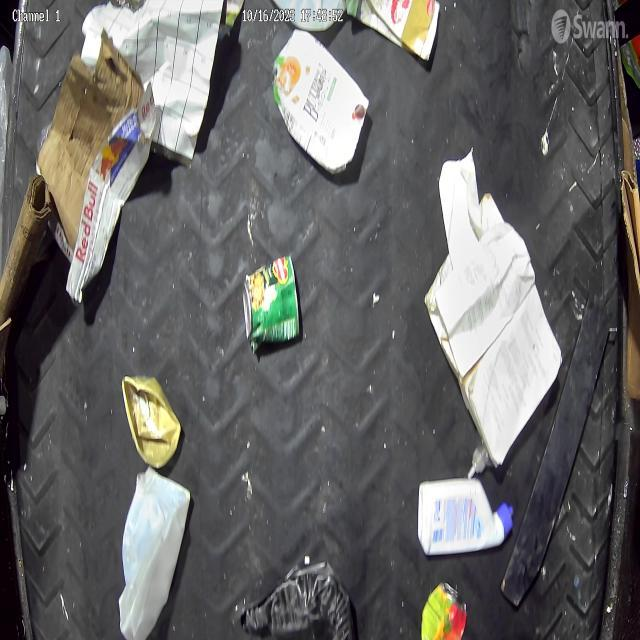can: (247, 258, 300, 349)
milk_jug: (120, 465, 190, 636)
